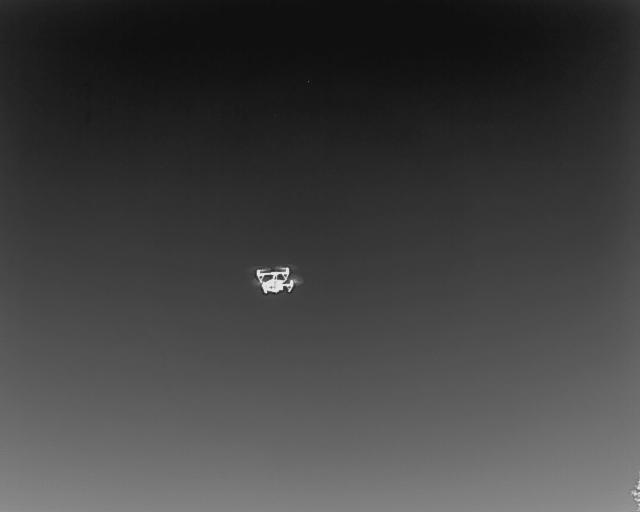drone: (245, 258, 307, 299)
